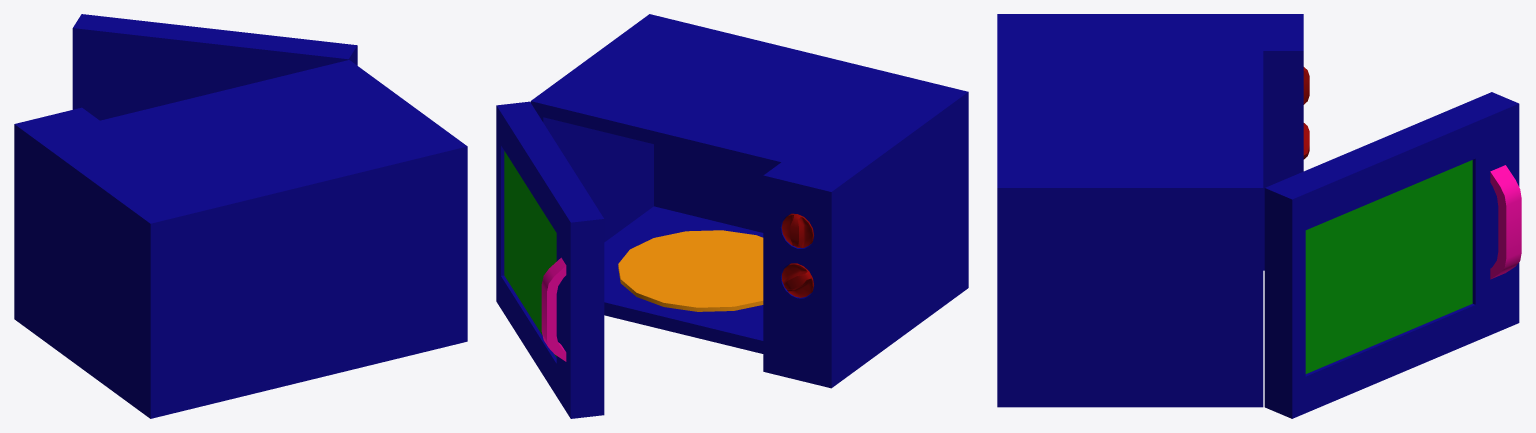
File: MicroOnde.FBX
3 renders of one model, left to right at view 1: azimuth 30°, elevation 25°; view 2: azimuth 150°, elevation 25°; view 3: azimuth 270°, elevation 25°, orthographic. The views are drawn at different scales.
Parts seen in each view (by area): view 1: MicroOnde; view 2: MicroOnde; view 3: MicroOnde.
Part boxes in pixels (x1=…): MicroOnde: x1=14, y1=14, x2=467, y2=418; MicroOnde: x1=496, y1=14, x2=968, y2=418; MicroOnde: x1=997, y1=14, x2=1521, y2=418.
Size of the model in its own units: 84.92 by 101 by 46.83.
